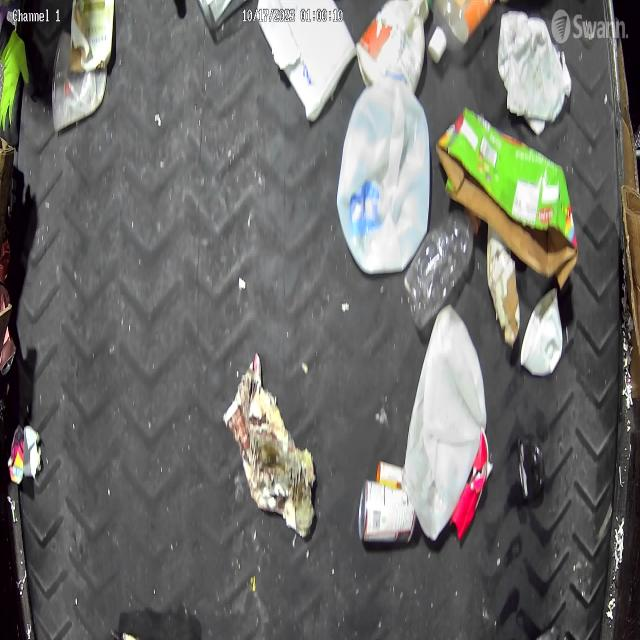milk-jug: (336, 65, 431, 278)
